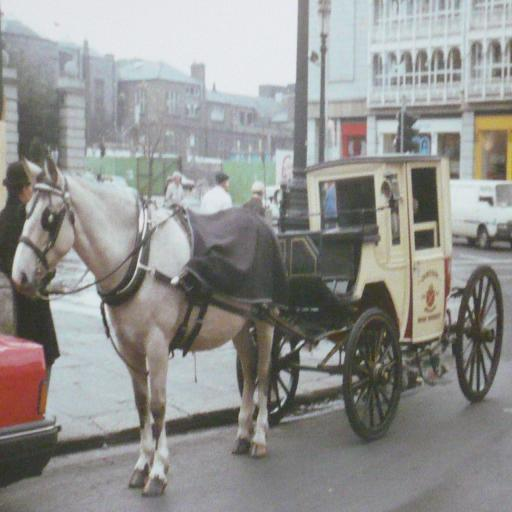Horse: (12, 155, 282, 495)
